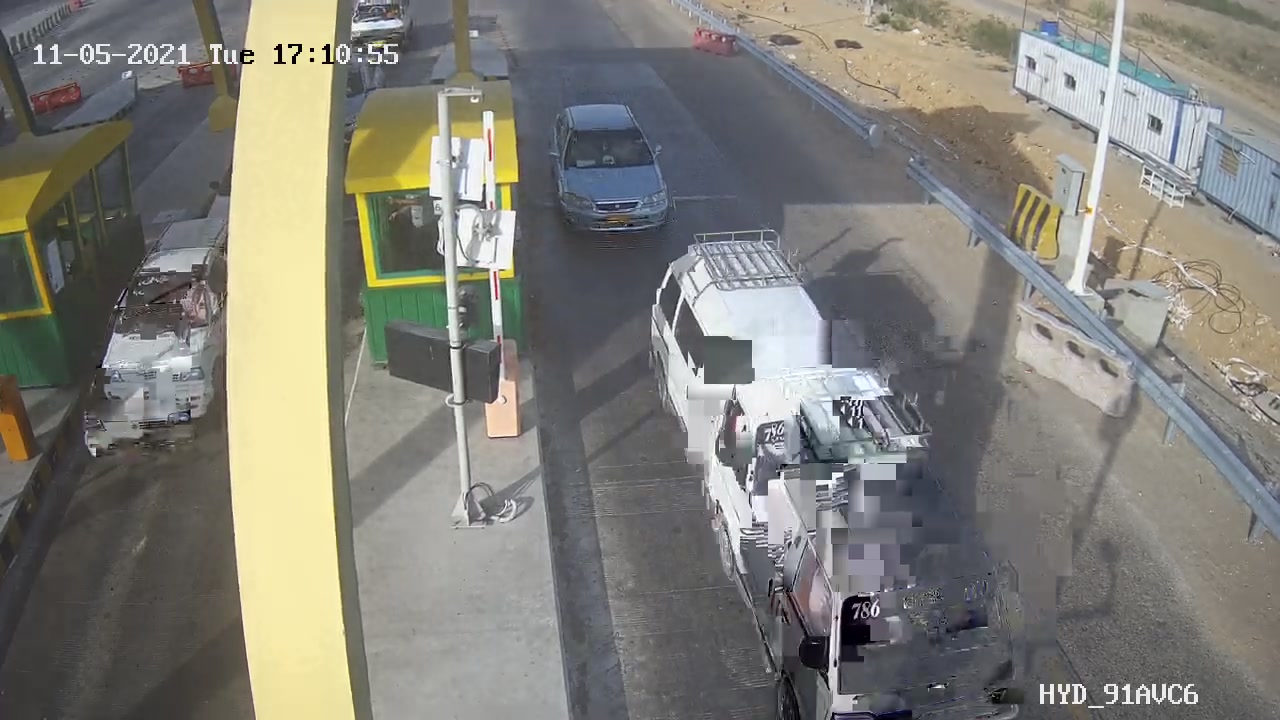F1: (534, 90, 687, 251)
